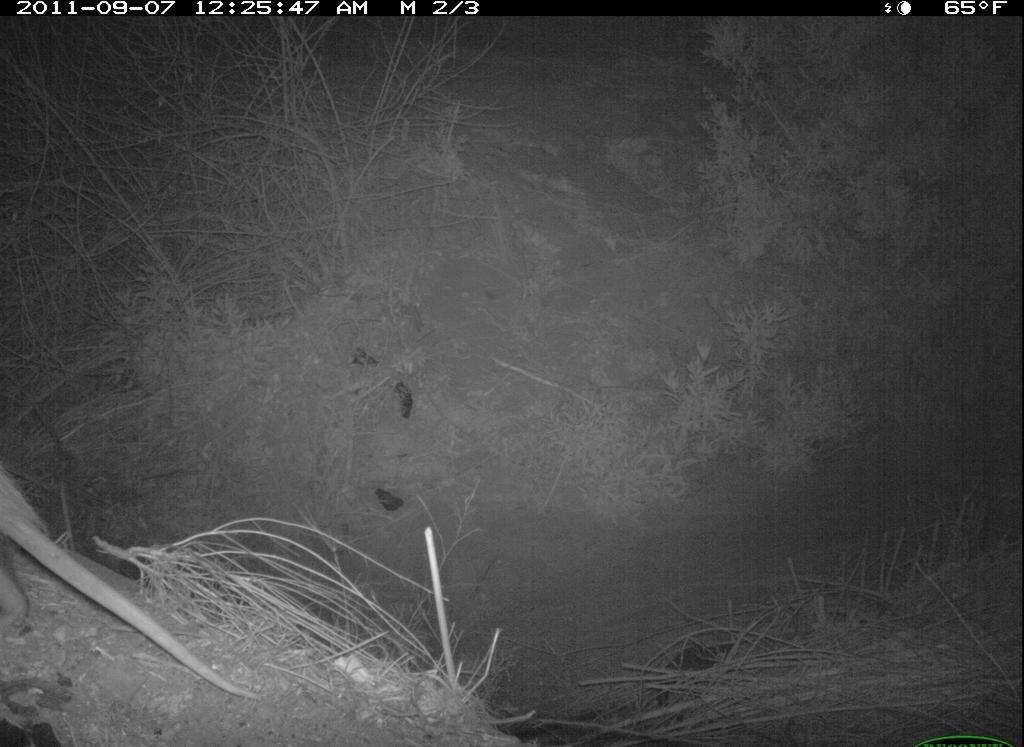opossum: (2, 465, 268, 708)
